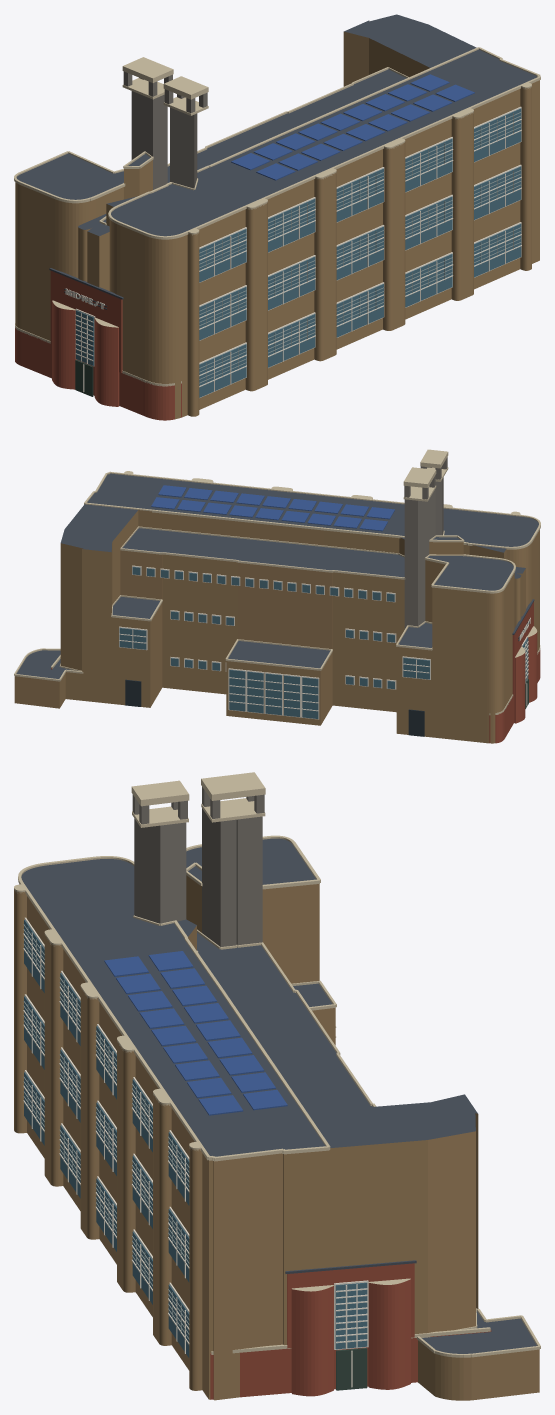
Rendered from midwest.glb.
The picture shows the model from 3 angles, top to bottom: view 1: azimuth 30°, elevation 25°; view 2: azimuth 150°, elevation 25°; view 3: azimuth 270°, elevation 25°; orthographic projection. The views are drawn at different scales.
Parts seen in each view (by area): view 1: midwest; view 2: midwest; view 3: midwest.
Part boxes in pixels (x1,y1,x2,y2): midwest: (14,14,540,420); midwest: (14,449,540,743); midwest: (14,772,540,1400).
Bounding box in the file's own units: 42.99 × 22.9 × 29.61.
